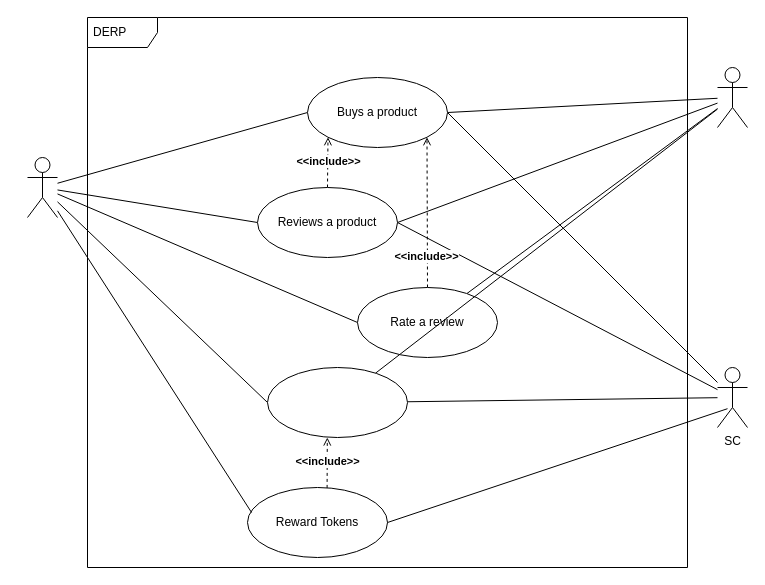
Image size: 765x585. Some labels were removed from this diagram. Each missing label, with the centre of its shape:
"Buy profile items" belongs at [337,402].
"Reviewer" belongs at [42,187].
"Token" belongs at [732,97].
